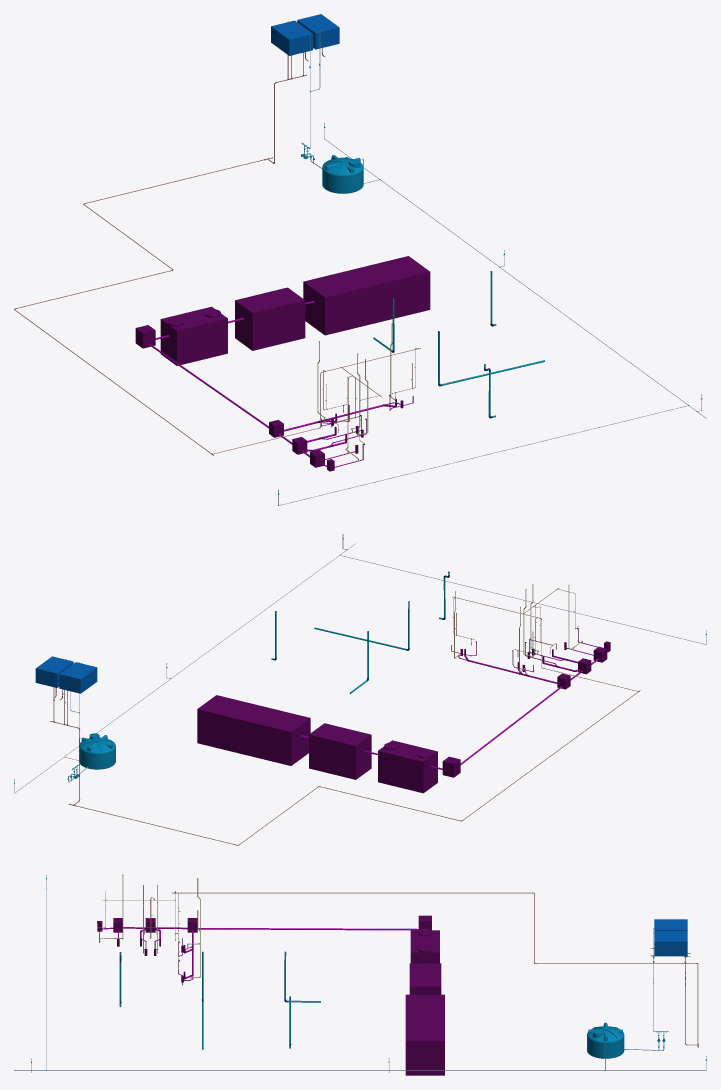
Rendered from filtro.glb.
The picture shows the model from 3 angles, top to bottom: view 1: azimuth 30°, elevation 25°; view 2: azimuth 150°, elevation 25°; view 3: azimuth 270°, elevation 25°; orthographic projection. The views are drawn at different scales.
Visible parts, largest first — view 1: object 24, T_rreo-Sanitgototico, cobertura-Hidr_aRereto, object 8, object 12, T_rreo-SanitEsgduto, T_rreo-SanittoCaria, T_rreo-Hidr_limeduto; view 2: object 24, T_rreo-Sanitgototico, cobertura-Hidr_aRereto, object 8, object 12, T_rreo-SanittoCaria, T_rreo-SanitEsgduto, T_rreo-Hidr_limeduto; view 3: object 24, object 8, cobertura-Hidr_aRereto, object 12, T_rreo-Sanitgototico, T_rreo-Hidr_limeduto, T_rreo-SanitEsgduto, T_rreo-SanittoCaria, cobertura-SanitPluduto, cobertura-Sanitentiduto.
Part boxes in pixels (x1,y1,x2,y2): object 24: (235, 256, 430, 350); T_rreo-Sanitgototico: (160, 306, 227, 365); cobertura-Hidr_aRereto: (271, 14, 339, 55); object 8: (14, 157, 420, 455); object 12: (322, 155, 363, 193); T_rreo-SanitEsgduto: (148, 301, 412, 467); T_rreo-SanittoCaria: (135, 325, 324, 467); T_rreo-Hidr_limeduto: (278, 124, 706, 505); object 24: (197, 695, 371, 779); T_rreo-Sanitgototico: (378, 740, 437, 793); cobertura-Hidr_aRereto: (35, 656, 97, 693); object 8: (69, 588, 640, 845); object 12: (79, 733, 115, 769); T_rreo-SanittoCaria: (442, 646, 607, 777); T_rreo-SanitEsgduto: (300, 642, 598, 769); T_rreo-Hidr_limeduto: (14, 535, 706, 792); object 24: (405, 963, 444, 1075); object 8: (98, 891, 698, 1047); cobertura-Hidr_aRereto: (654, 919, 687, 956); object 12: (587, 1022, 624, 1058); T_rreo-Sanitgototico: (410, 928, 439, 963); T_rreo-Hidr_limeduto: (14, 875, 706, 1071); T_rreo-SanitEsgduto: (102, 927, 425, 980); T_rreo-SanittoCaria: (113, 915, 431, 932); cobertura-SanitPluduto: (119, 952, 290, 1044); cobertura-Sanitentiduto: (122, 876, 200, 976).
Bounding box in the file's own units: 9.51 × 3.76 × 15.14.
